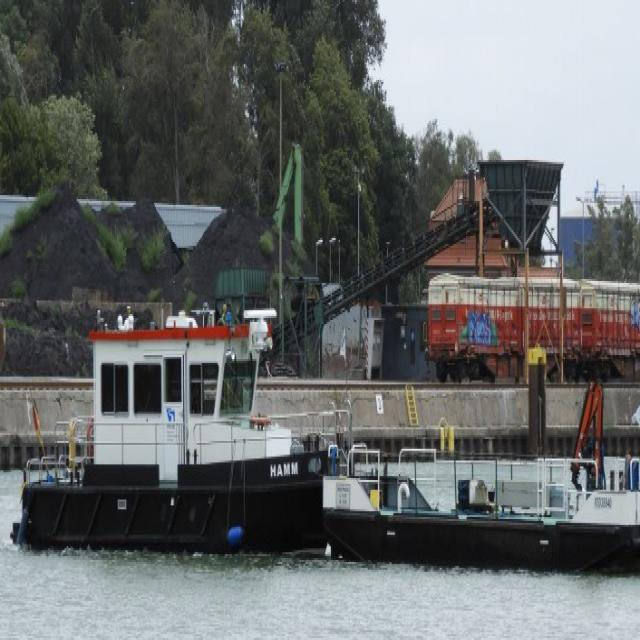tugboat: (8, 276, 640, 590)
